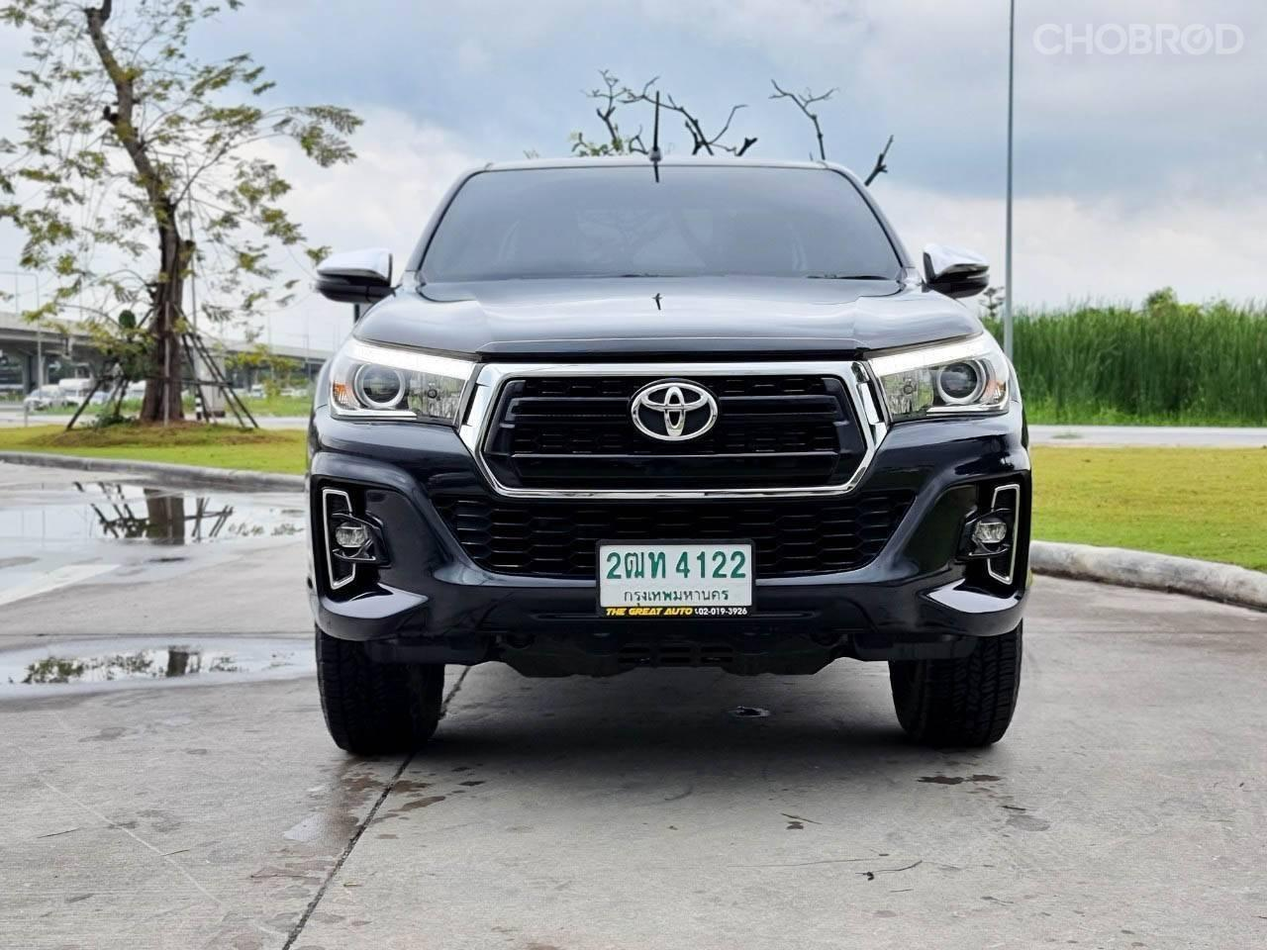license-plate: (590, 533, 758, 631)
